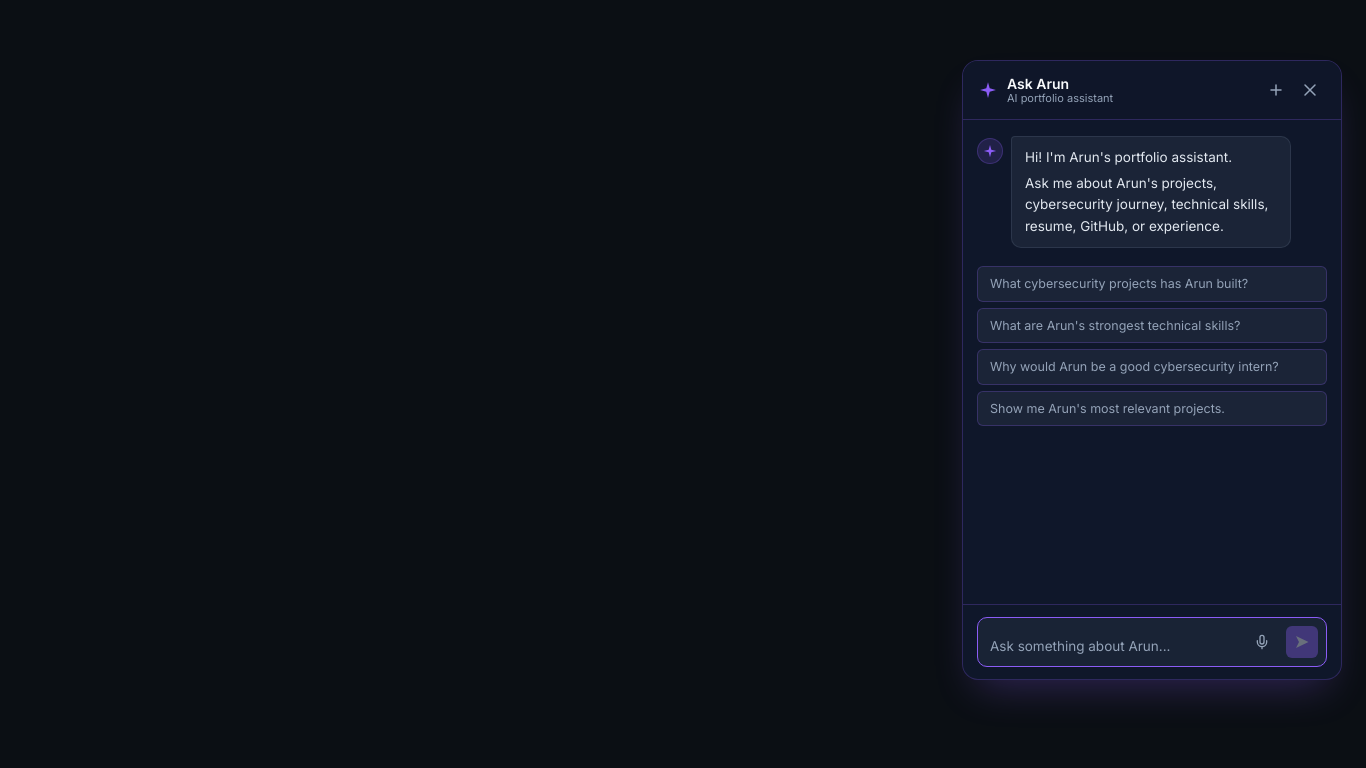
Test: Ask Arun panel › sends a message, shows the response, and clears local history
expect the dialog "Ask Arun" is shown: met, box x1=962 y1=60 x2=1342 y2=680
Type "Who is Arun?" into the text box named "type your message".
click(1114, 647); type("Who is Arun?")  # box x1=990 y1=636 x2=1238 y2=658
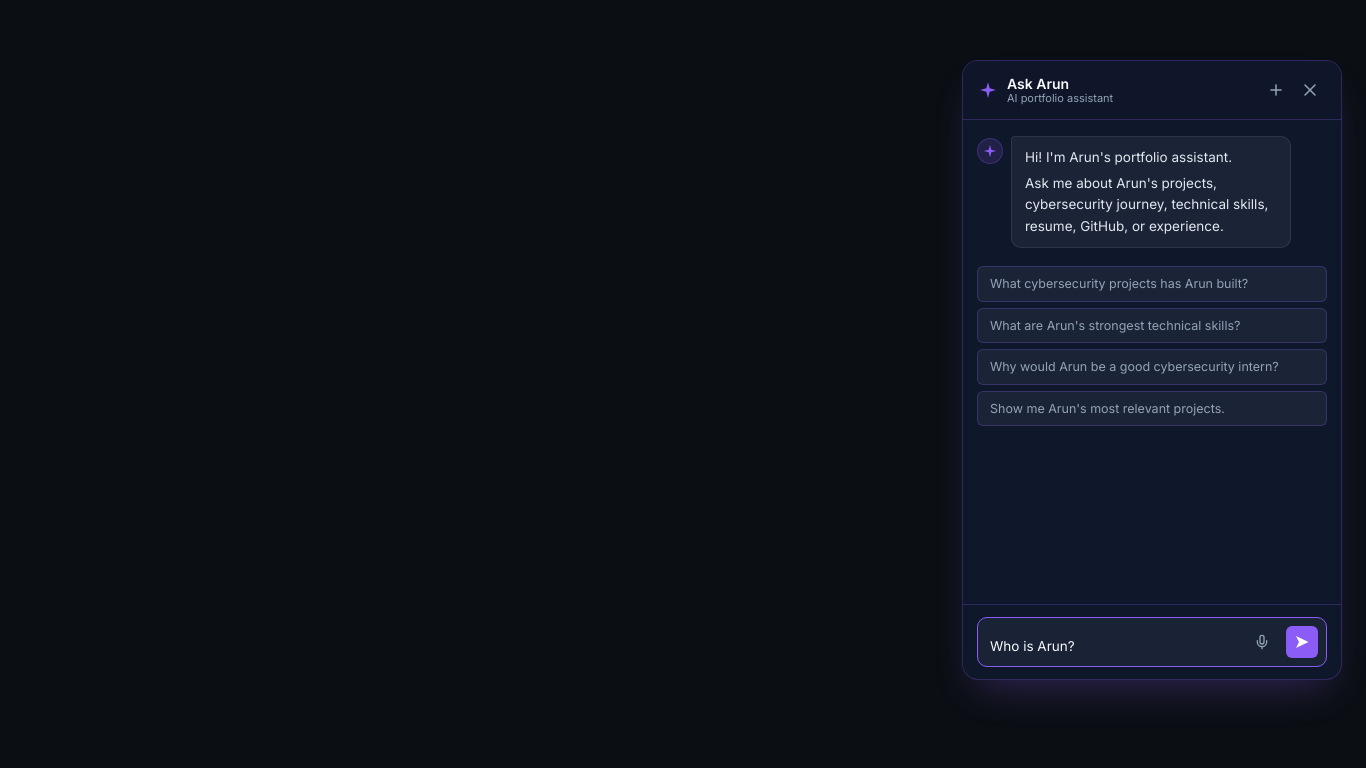
Click the button named "send message".
click(1302, 642)  # box x1=1286 y1=626 x2=1318 y2=658
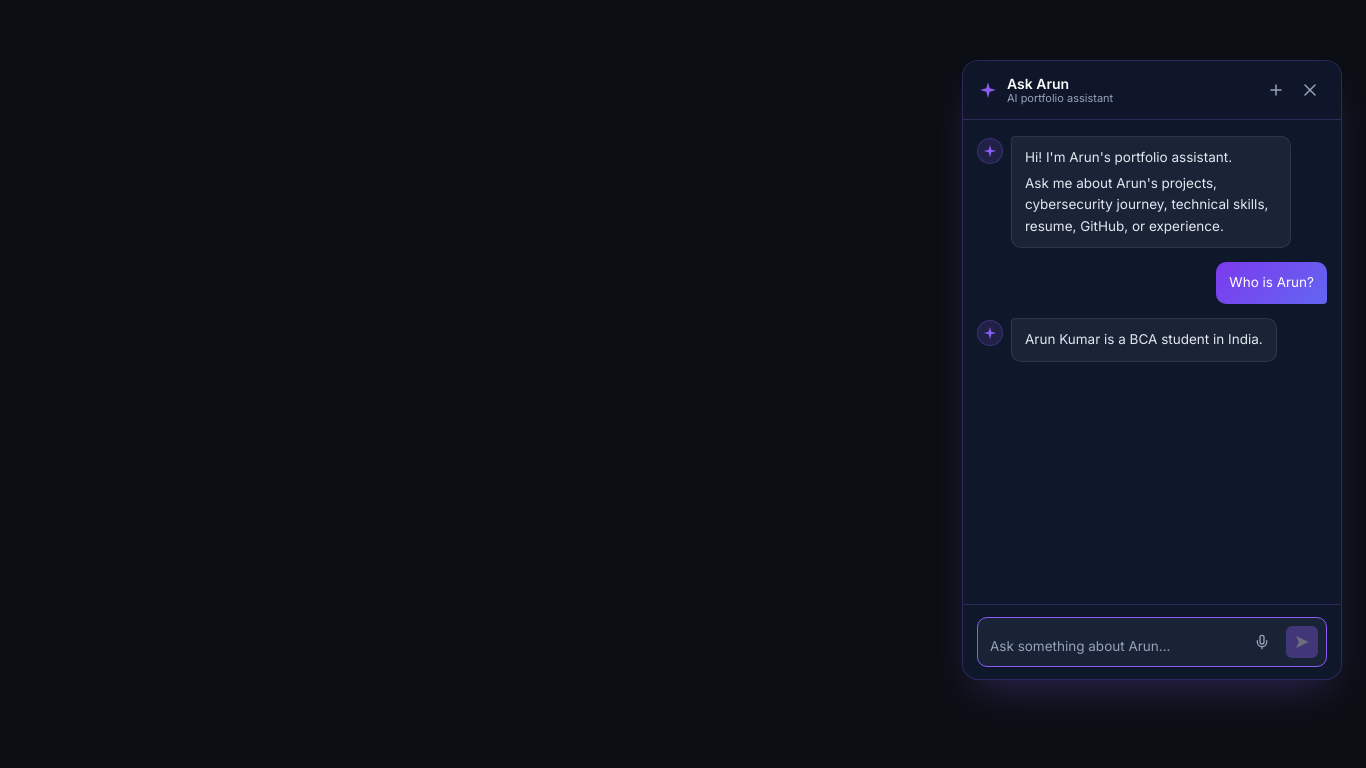
expect the text "Who is Arun?" is shown: met, box x1=1229 y1=272 x2=1314 y2=294
expect the text "Arun Kumar is a BCA student in India." is shown: met, box x1=1025 y1=331 x2=1263 y2=347
Click the button named "start a new chat".
click(1276, 90)  # box x1=1261 y1=75 x2=1291 y2=105
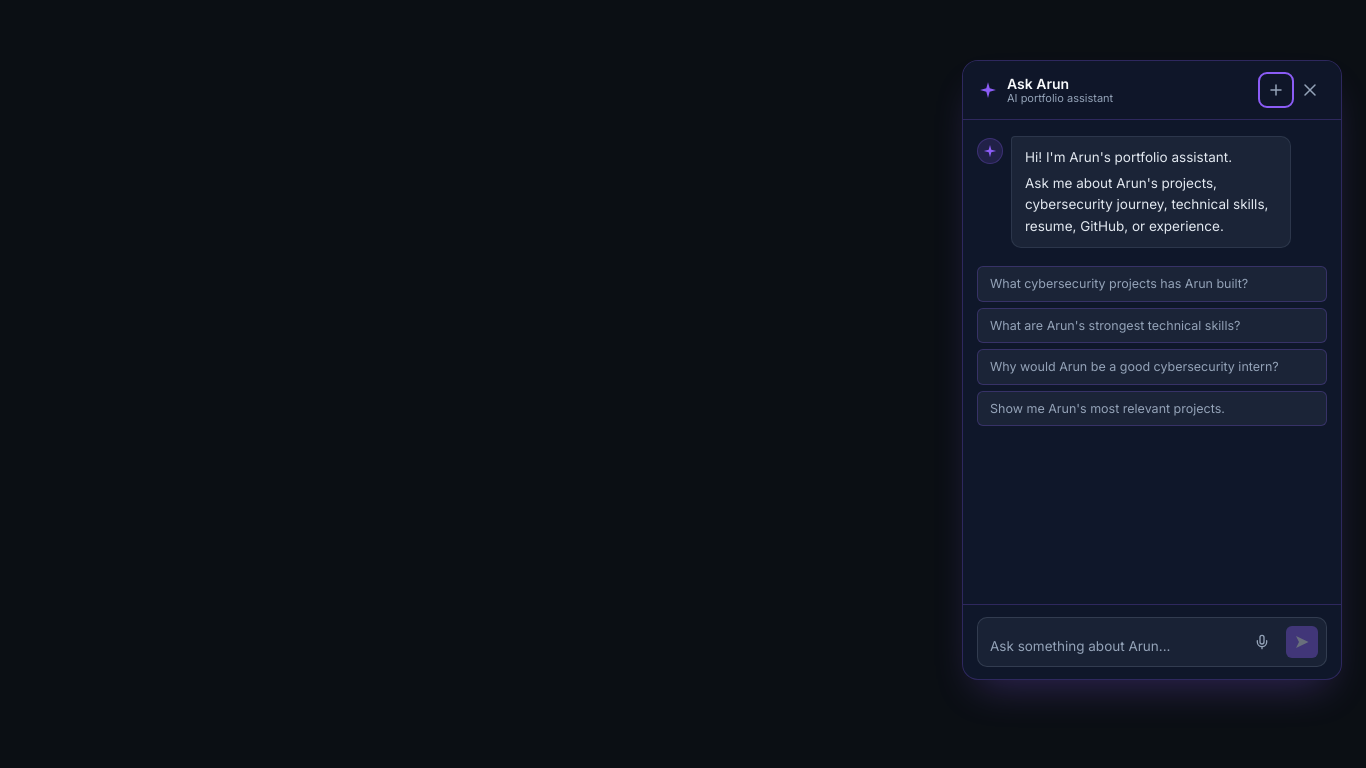
expect the text "Who is Arun?" is gone: met
